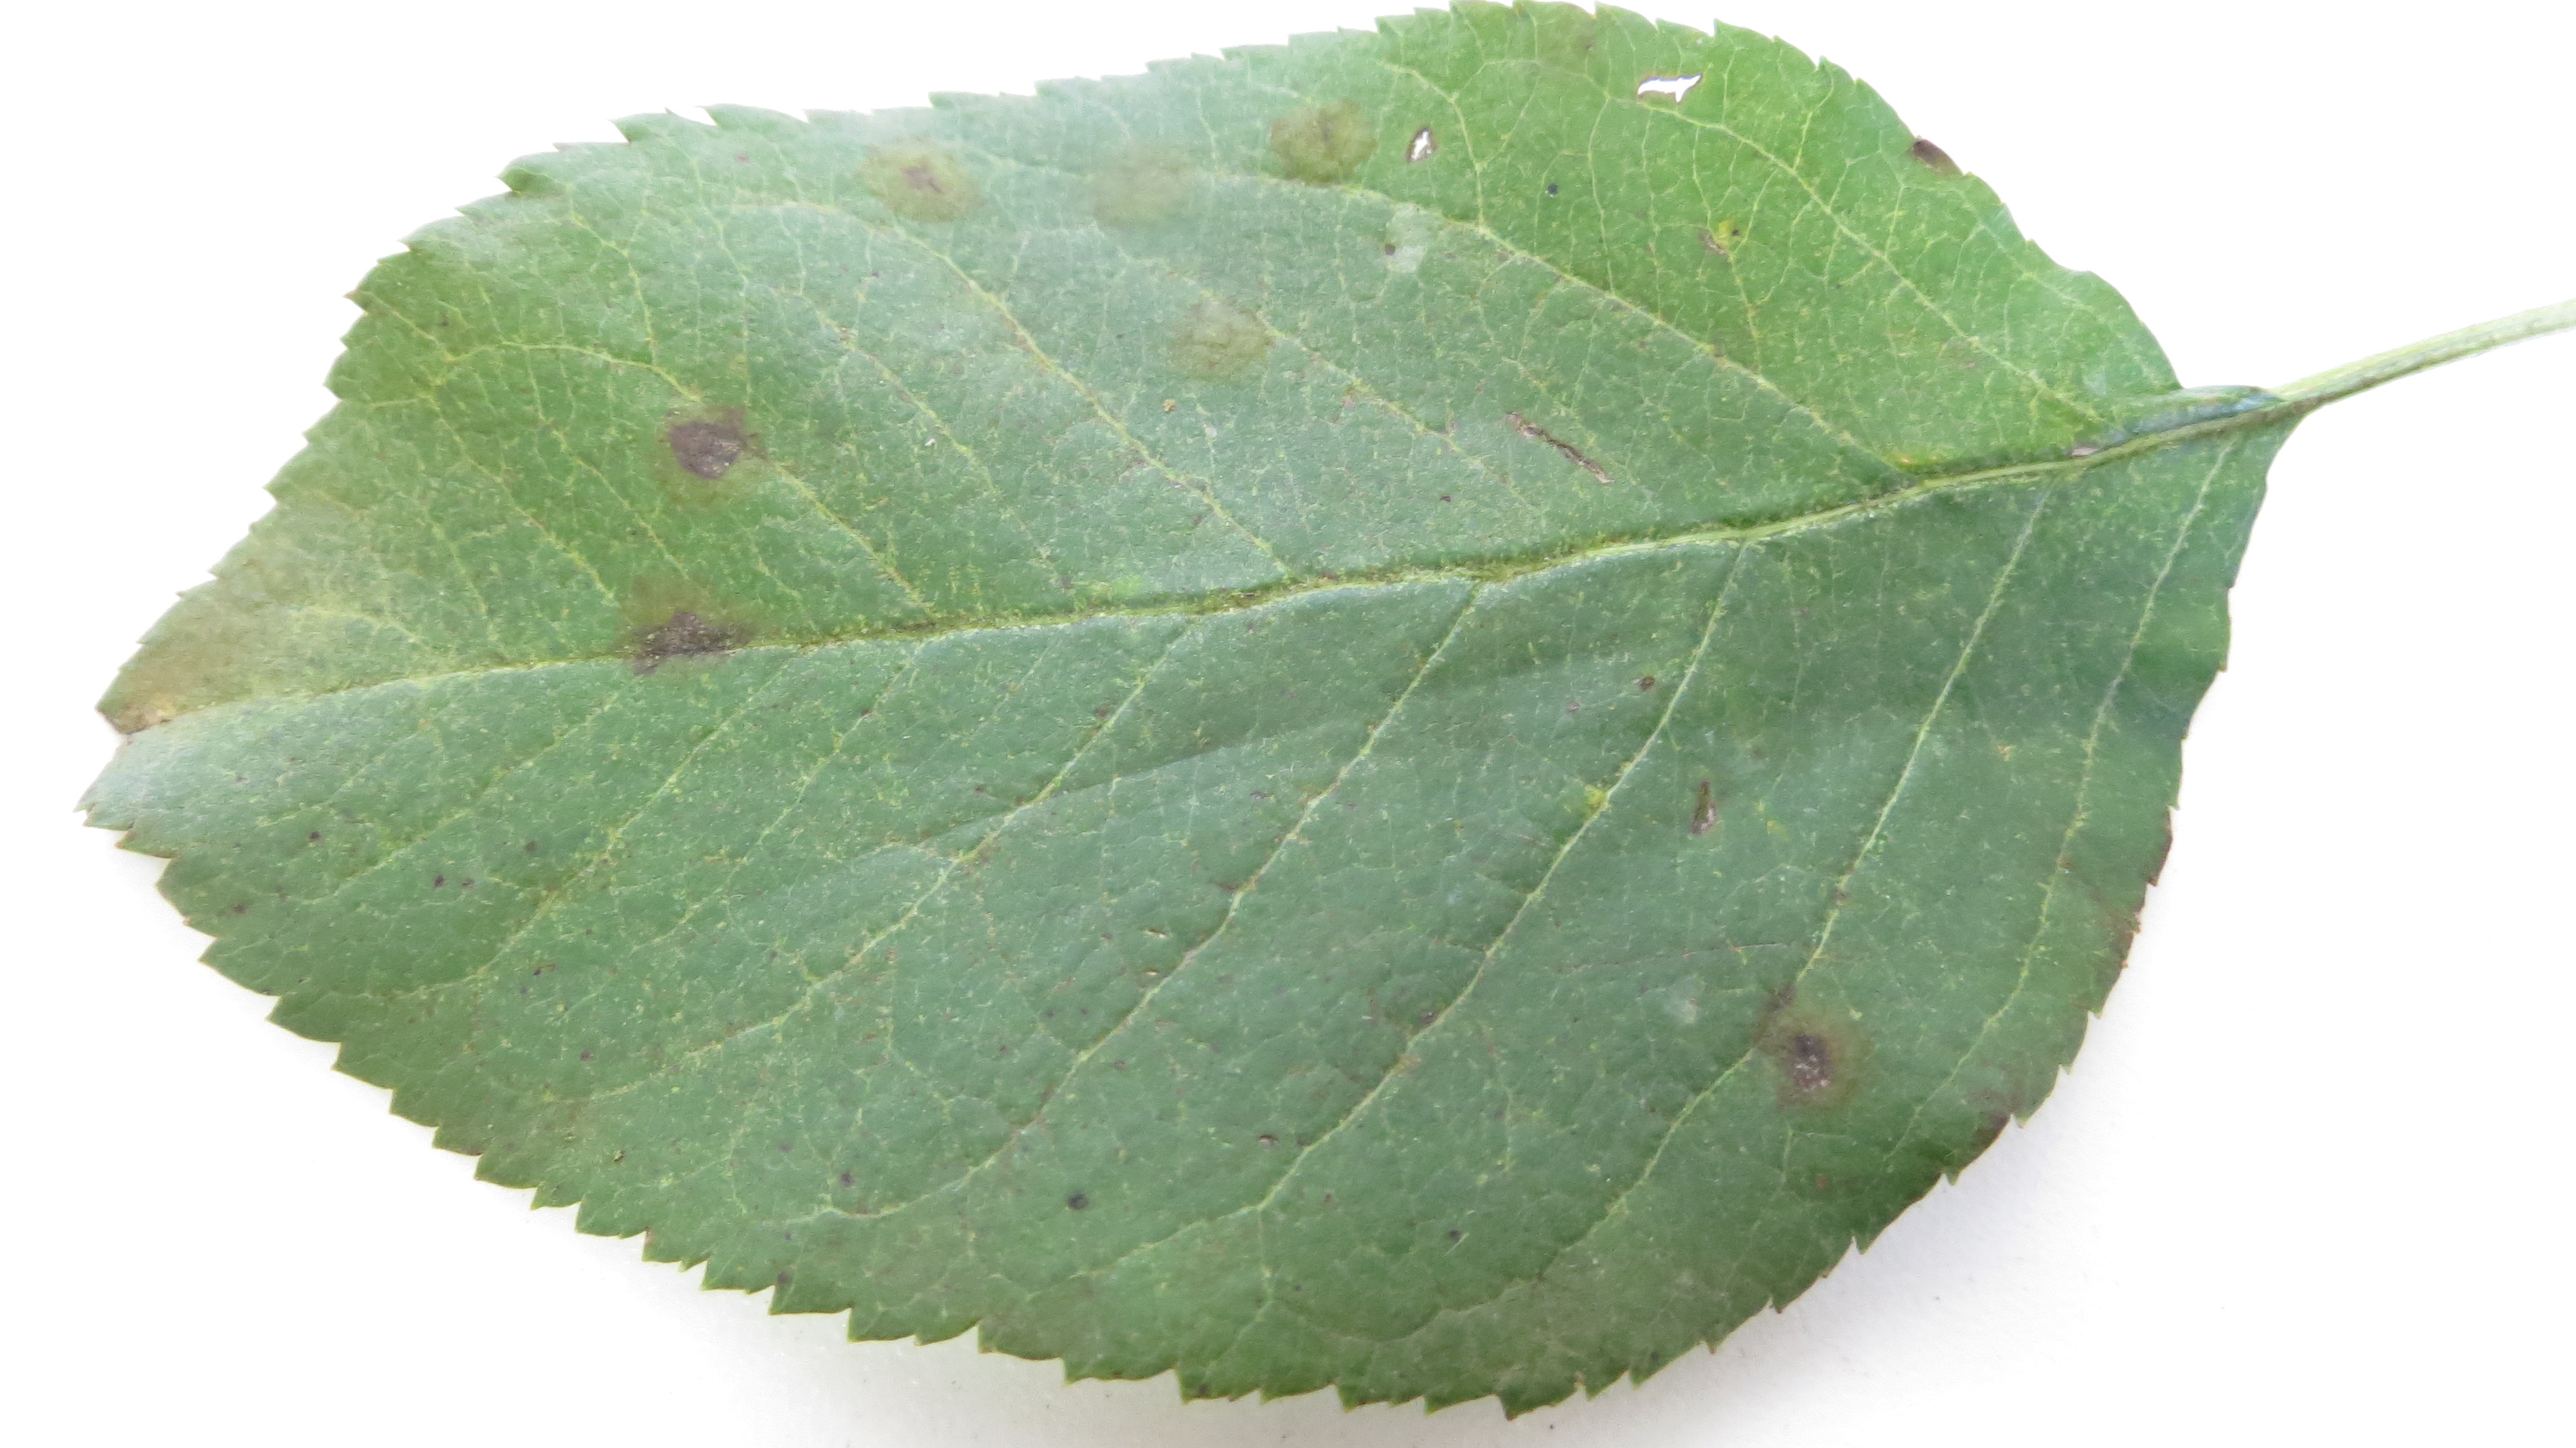sarna: (605, 558, 771, 683), (1056, 127, 1207, 264), (1743, 972, 1875, 1122), (651, 379, 784, 492), (1251, 104, 1398, 205), (876, 124, 994, 248), (1148, 290, 1272, 386)
